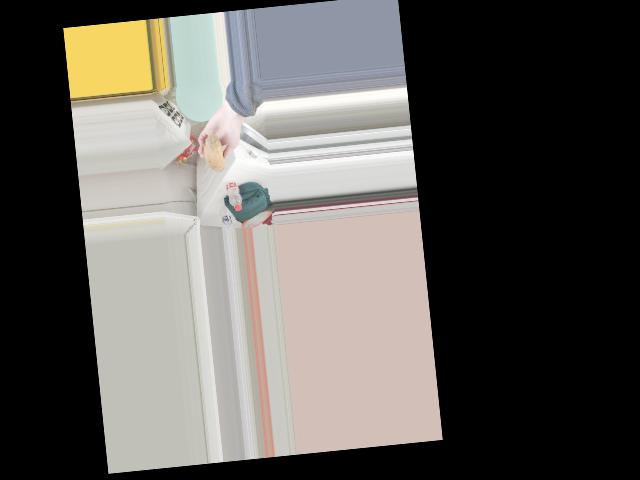sweet_potato: (204, 127, 228, 175)
